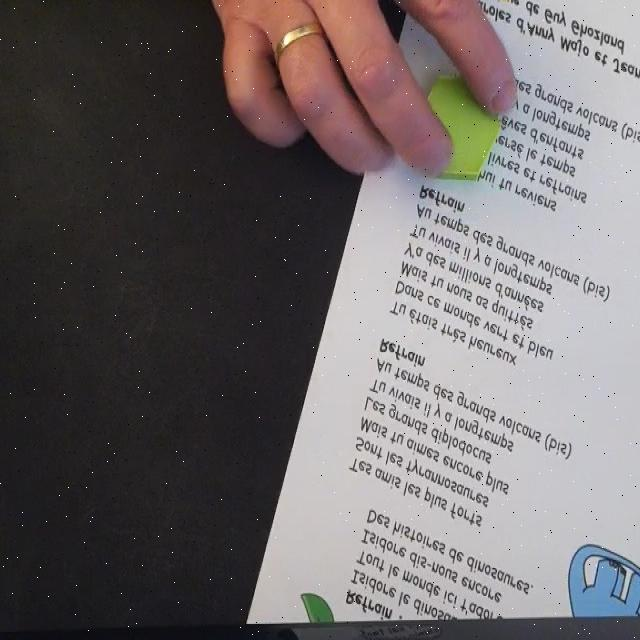hexagon: (413, 78, 504, 184)
